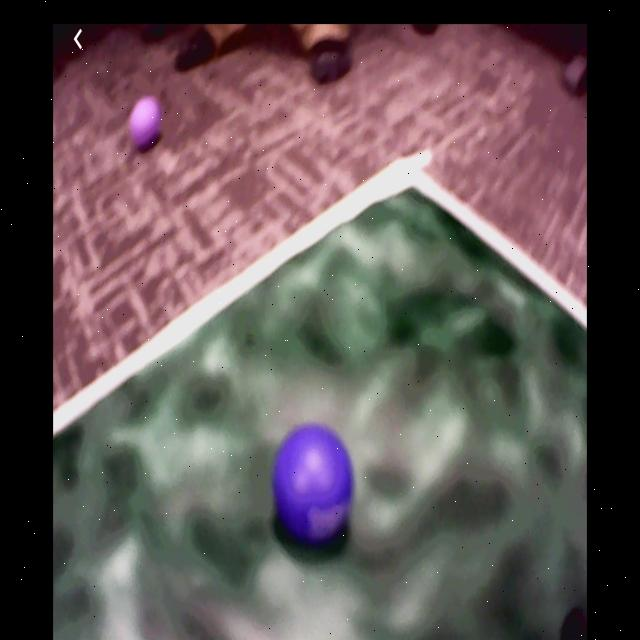ball: (272, 422, 354, 544), (127, 97, 161, 152)
